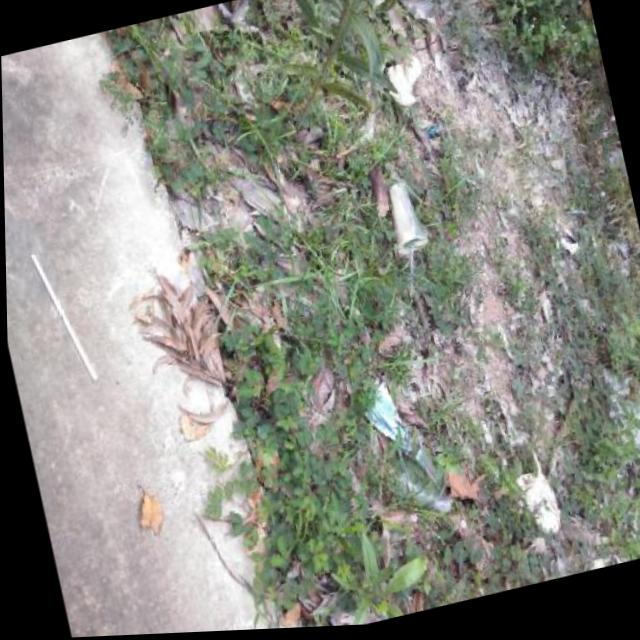plastic: (29, 244, 98, 390), (380, 179, 439, 305)
